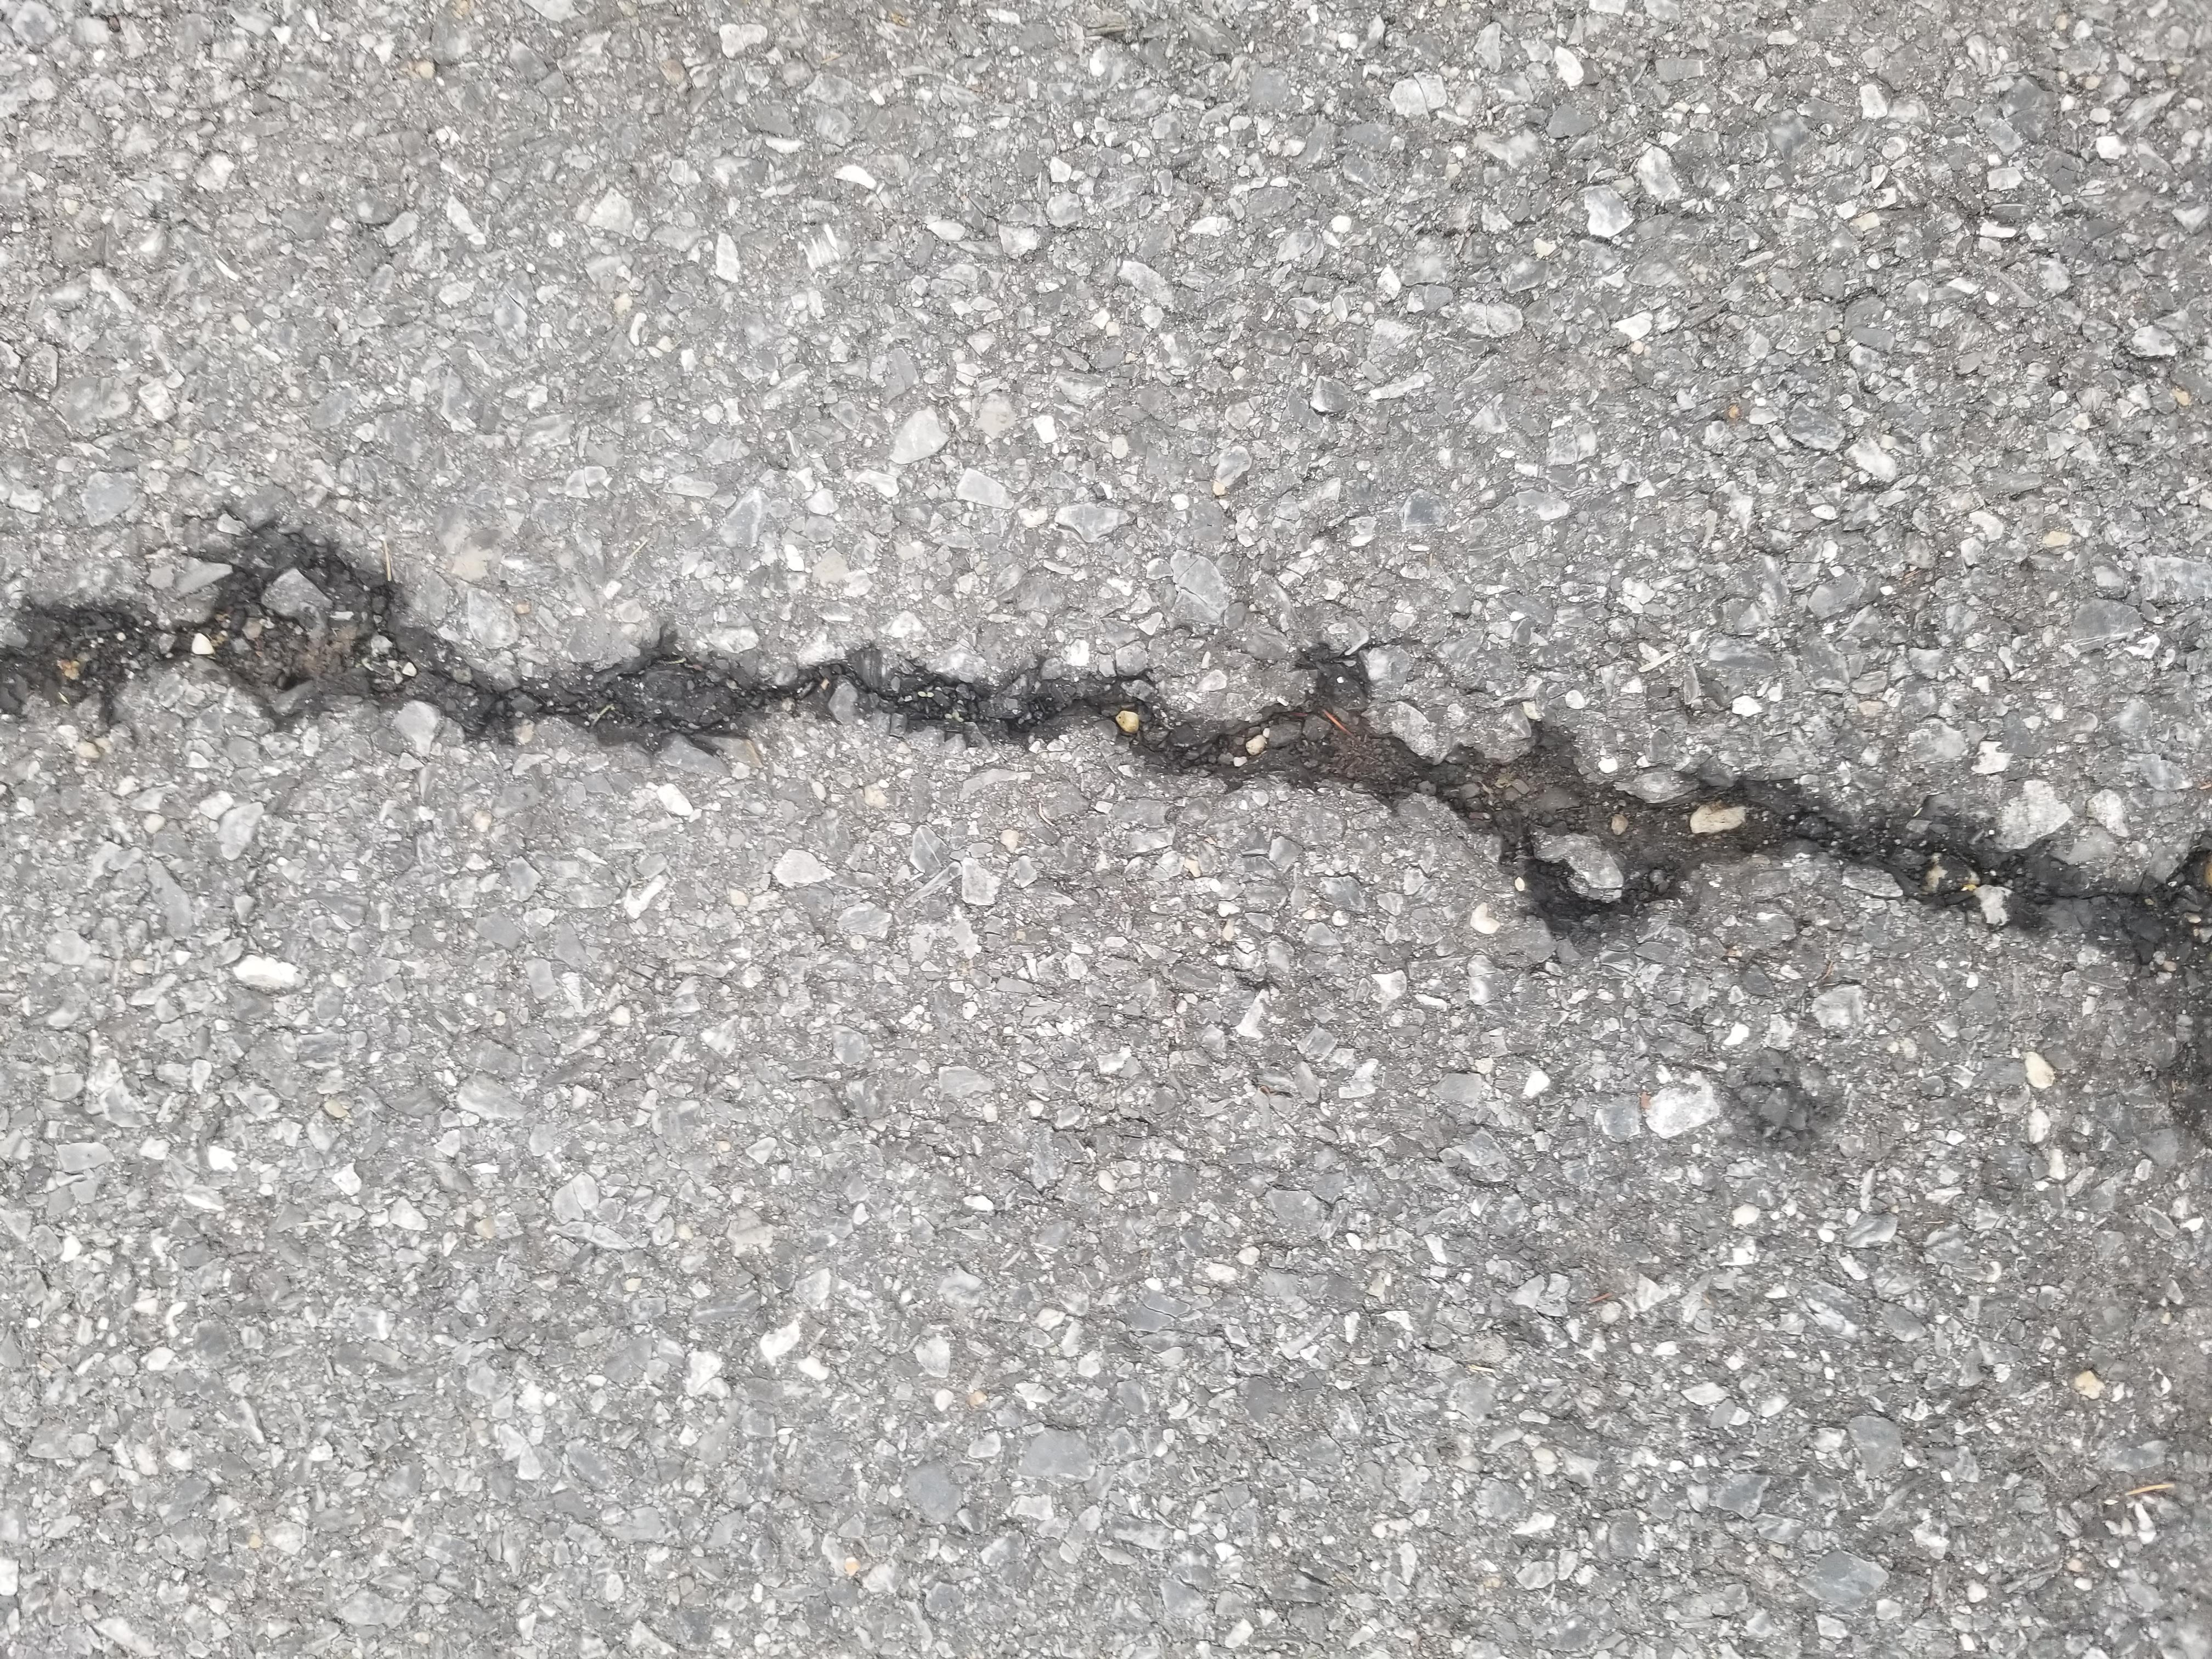crack: (855, 0, 1541, 1659)
